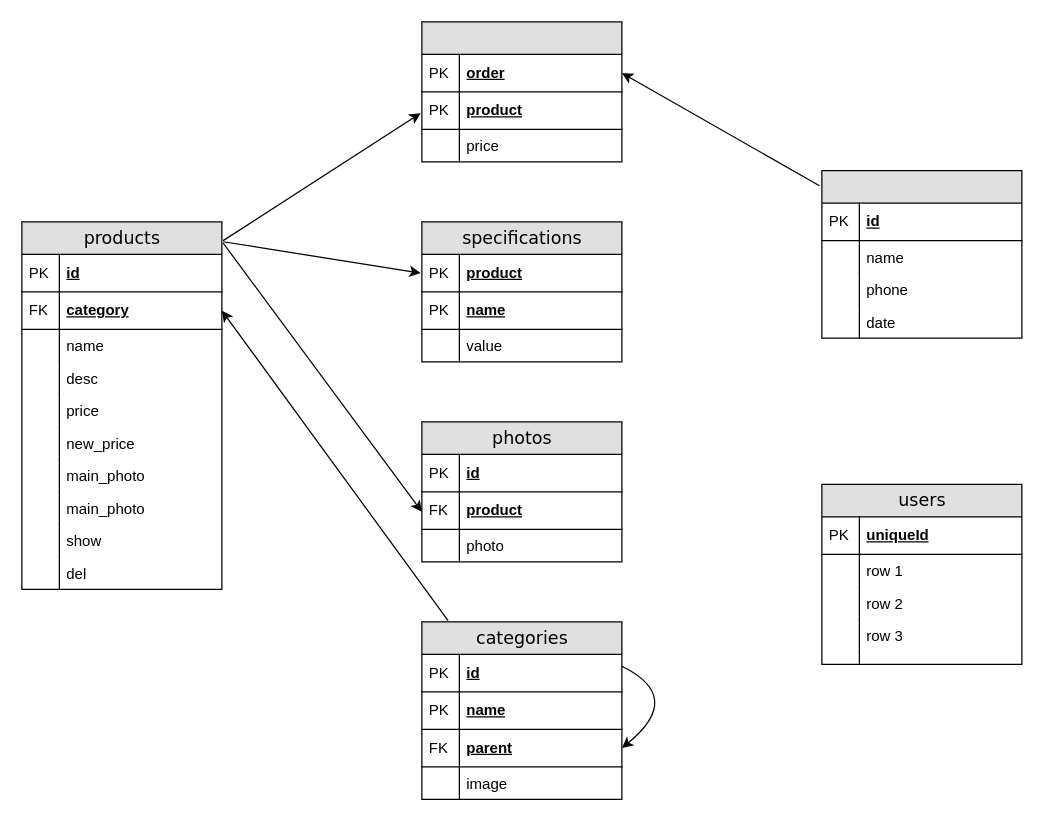
This 1044x825 diagram has some shape labels left out. Each missing label, with the box of its shape:
order_products: (421, 21, 622, 162)
orders: (821, 169, 1022, 338)
